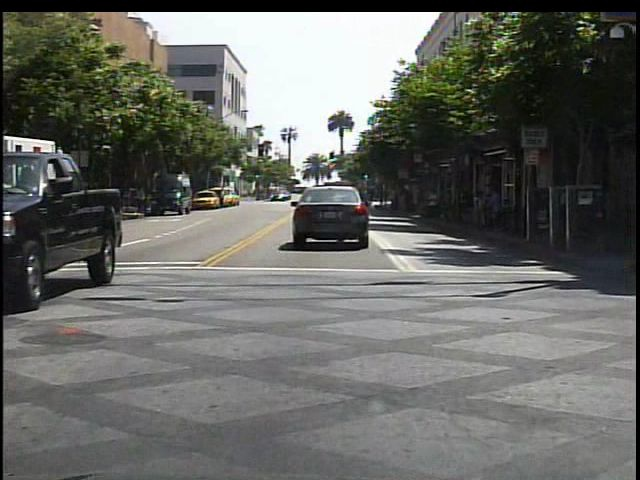person: (424, 184, 443, 221)
